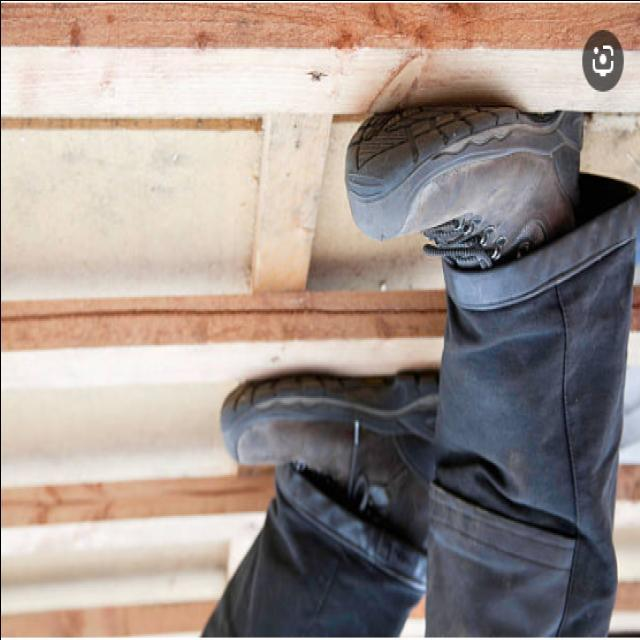boots: (215, 99, 610, 592)
